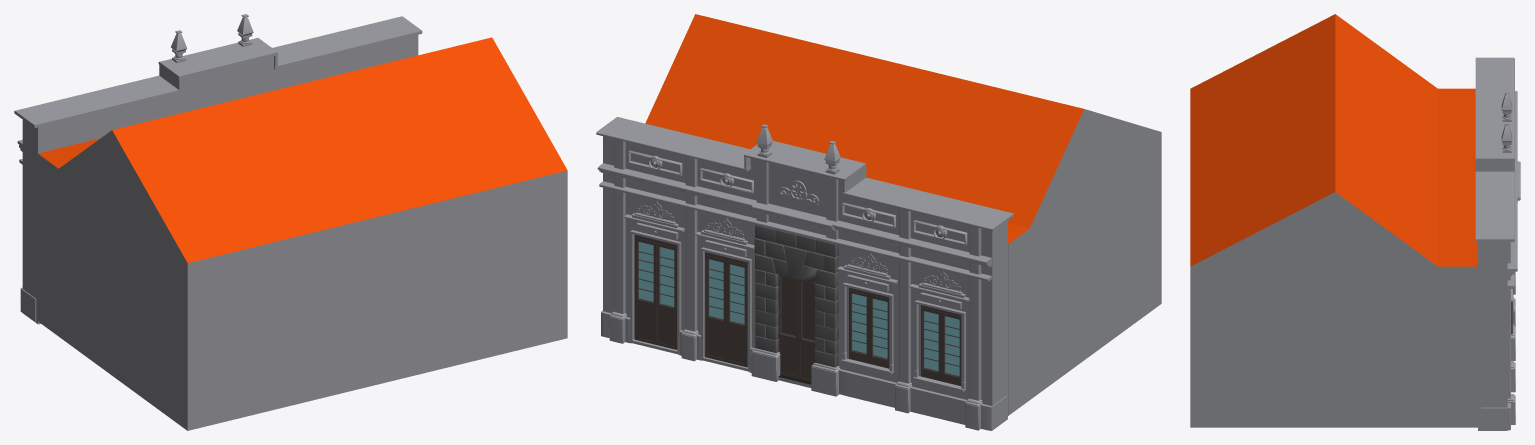
Rendered from esquerda_cafecentral.glb.
The picture shows the model from 3 angles, left to right: view 1: azimuth 30°, elevation 25°; view 2: azimuth 150°, elevation 25°; view 3: azimuth 270°, elevation 25°; orthographic projection. The views are drawn at different scales.
Parts seen in each view (by area): view 1: Cube.194, Cube.151, Cube.196, Cube.169, Cube.199, Cube.146; view 2: Cube.194, Cube.151, Cube.183, Cube.196, Cube.169, Cube.165, Cube.152, Cube.182, Cube.166, Cube.168, Cube.199, Cube.167 (+22 smaller); view 3: Cube.194, Cube.151, Cube.169, Cube.196, Cube.199, Cube.186, Cube.165, Cube.150, Cube.197.
Boxes of the visible parts, <box> form: Cube.194: <box>37,37,567,430</box>; Cube.151: <box>22,35,418,324</box>; Cube.196: <box>14,75,181,128</box>; Cube.169: <box>272,16,422,69</box>; Cube.199: <box>158,38,277,79</box>; Cube.146: <box>182,56,273,89</box>; Cube.194: <box>645,14,1161,415</box>; Cube.151: <box>603,136,1007,430</box>; Cube.183: <box>838,369,1006,430</box>; Cube.196: <box>842,177,1013,231</box>; Cube.169: <box>596,117,750,171</box>; Cube.165: <box>597,163,991,267</box>; Cube.152: <box>599,181,991,281</box>; Cube.182: <box>628,150,967,245</box>; Cube.166: <box>685,156,697,331</box>; Cube.168: <box>969,226,981,400</box>; Cube.199: <box>744,141,866,181</box>; Cube.167: <box>899,208,910,383</box>; Cube.194: <box>1190,14,1477,427</box>; Cube.151: <box>1478,242,1507,430</box>; Cube.169: <box>1475,171,1514,241</box>; Cube.196: <box>1475,57,1514,112</box>; Cube.199: <box>1475,112,1514,161</box>; Cube.186: <box>1481,402,1510,430</box>; Cube.165: <box>1507,91,1517,276</box>; Cube.150: <box>1507,242,1510,398</box>; Cube.197: <box>1475,160,1514,171</box>.
Bounding box in the file's own units: 18.51 × 11.36 × 14.23.
